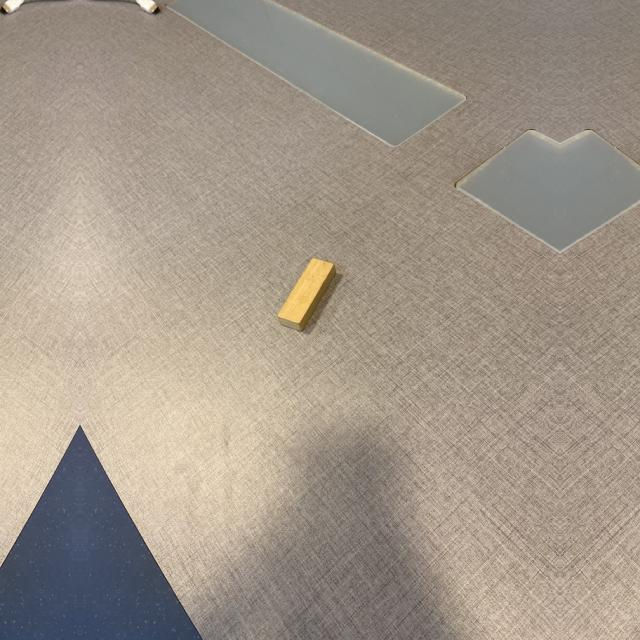jenga: (278, 258, 337, 332)
